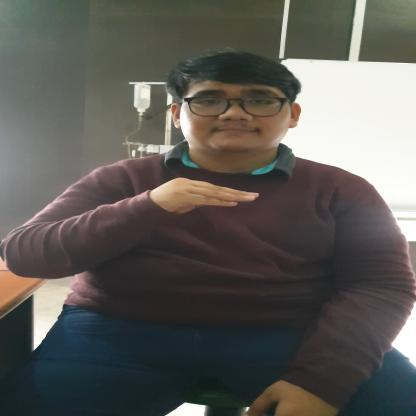Malam: (142, 176, 260, 214)
